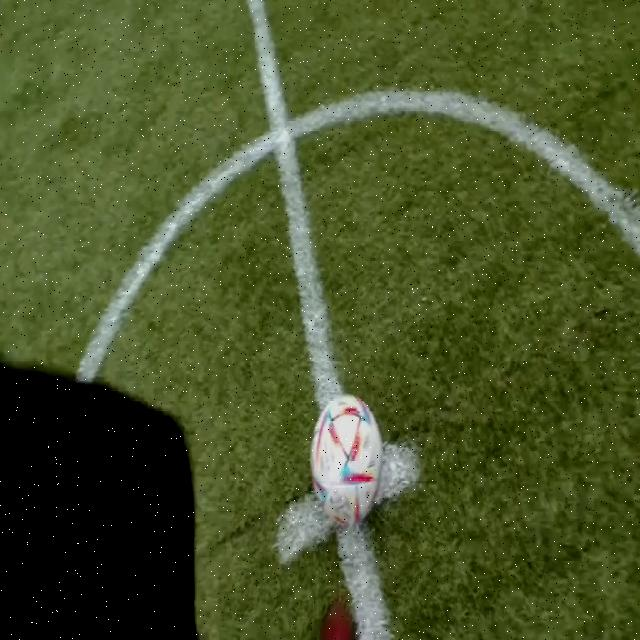ball: (310, 394, 382, 526)
